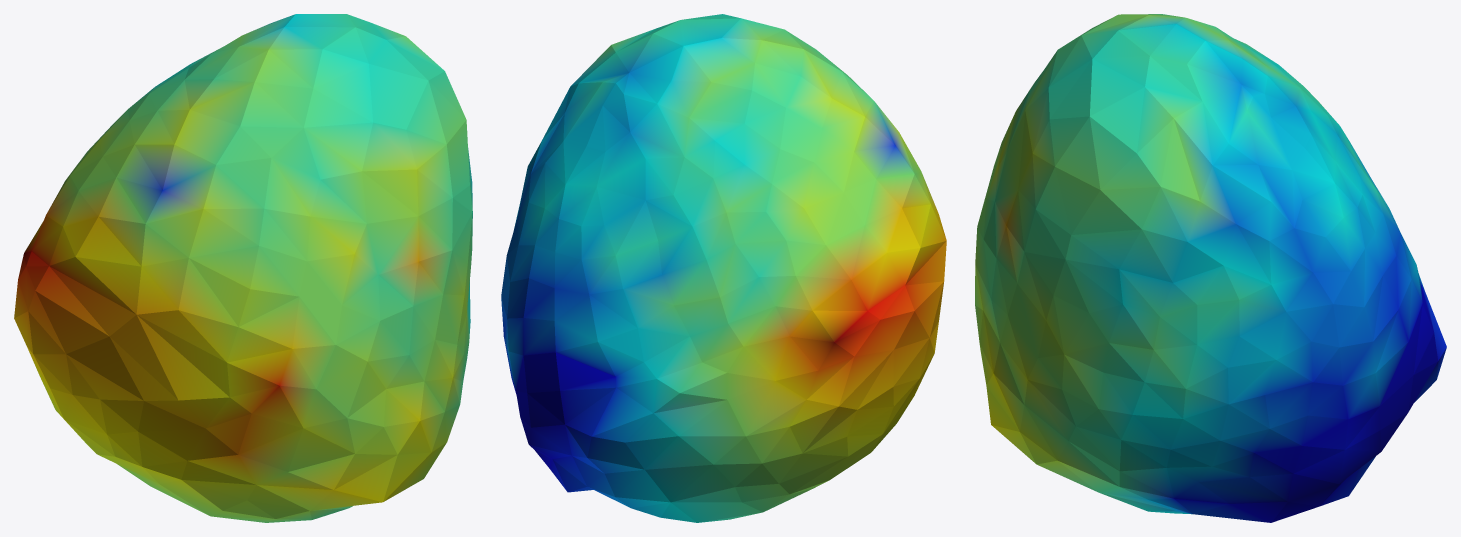
File: heartwithColor30.obj
3 views of the same model, side by side, from view 1: azimuth 30°, elevation 25°; view 2: azimuth 150°, elevation 25°; view 3: azimuth 270°, elevation 25° (orthographic). The views are drawn at different scales.
Size of the model in its own units: 71.7 by 81.16 by 72.94.
